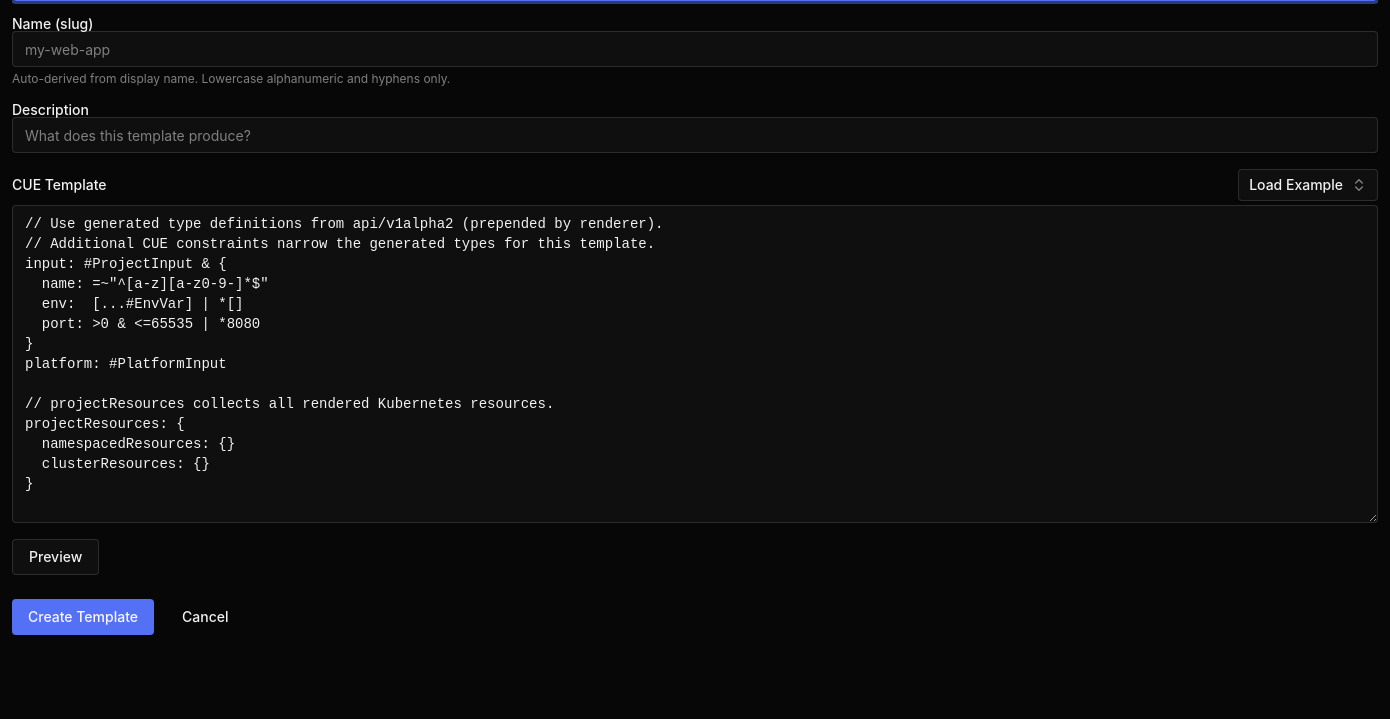
Test case: TemplateCreateForm — project scope › per-collection preview sections › shows both platform and project JSON sections when present
Step 1. Click the button "Preview" → (56, 557), box [12,539,99,575]
(page scrolled)
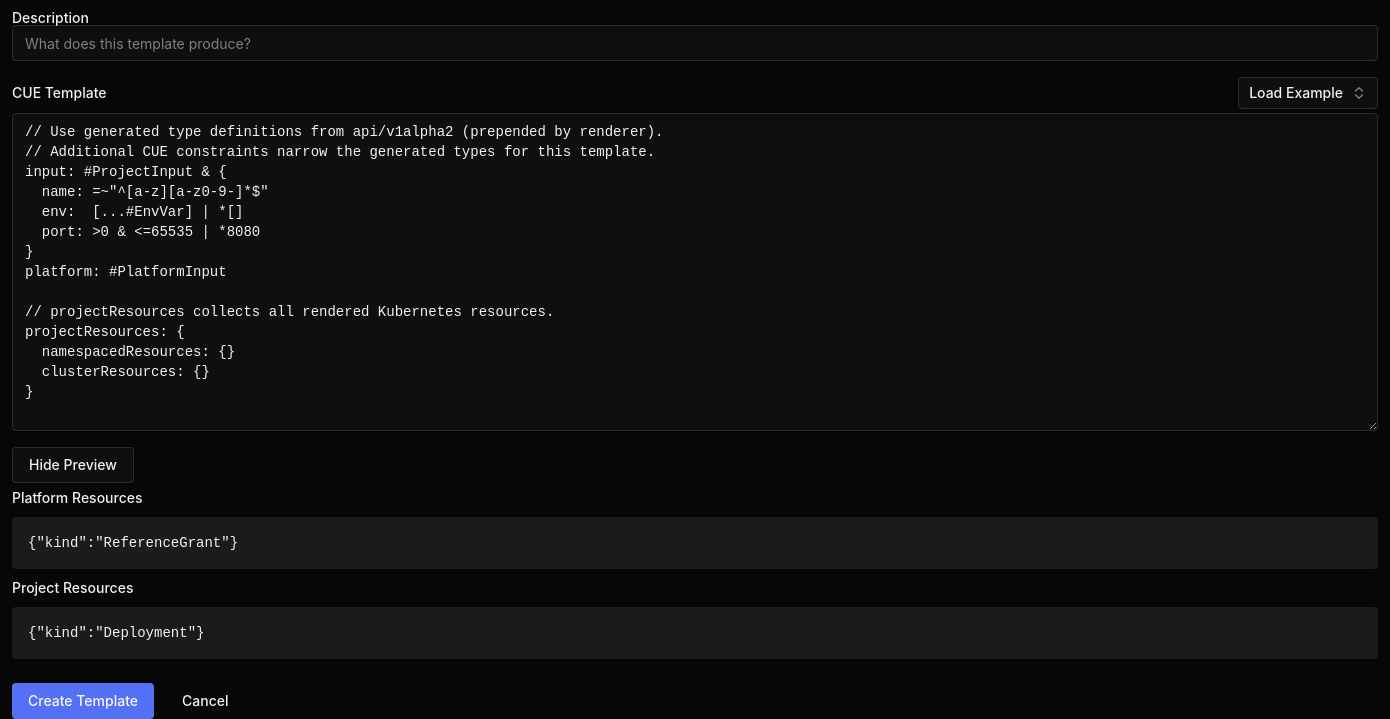
Now the text "Platform Resources" is shown, box [12,489,142,506]
Now the text "Project Resources" is shown, box [12,579,133,596]
Now the text named "Platform Resources JSON" shows "ReferenceGrant", box [28,535,238,551]
